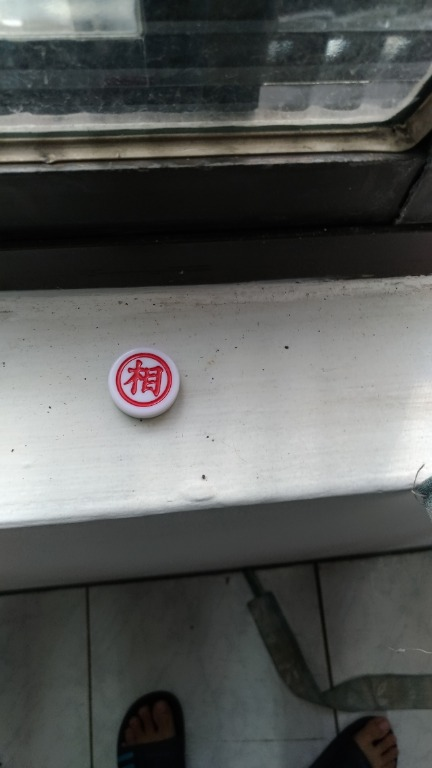r-elephant: (98, 338, 205, 425)
